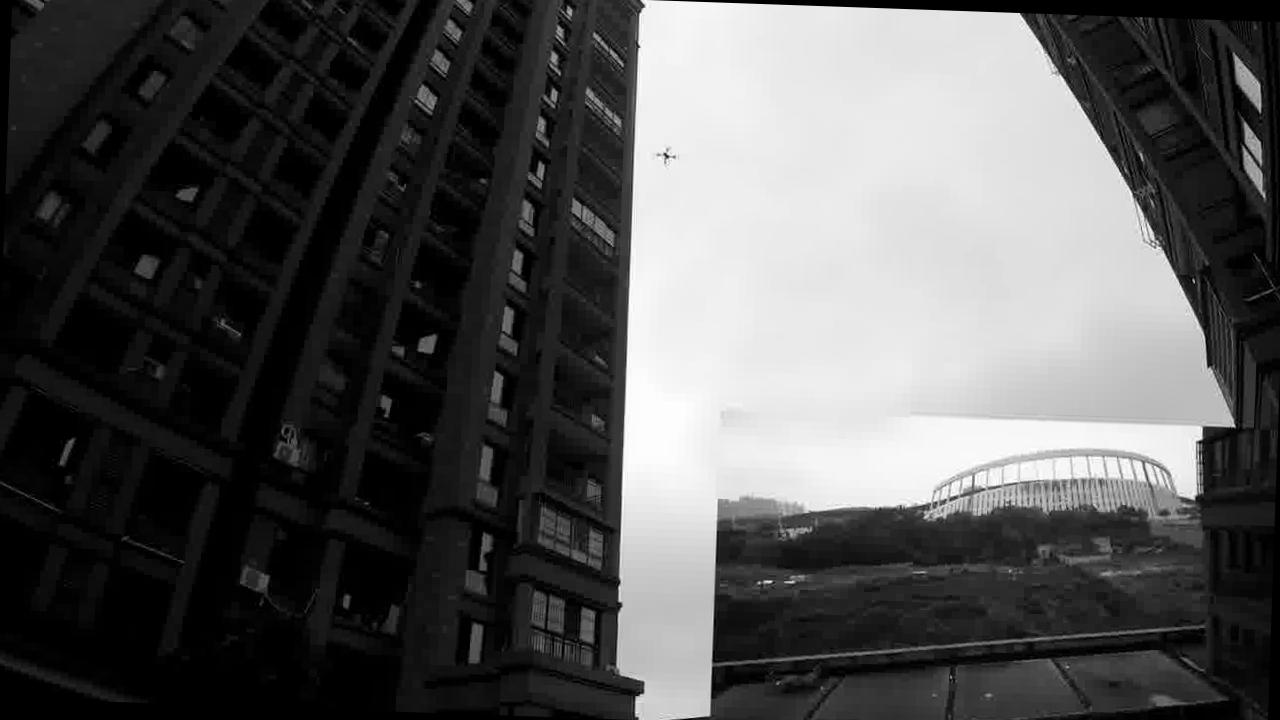drone: (652, 140, 682, 170)
